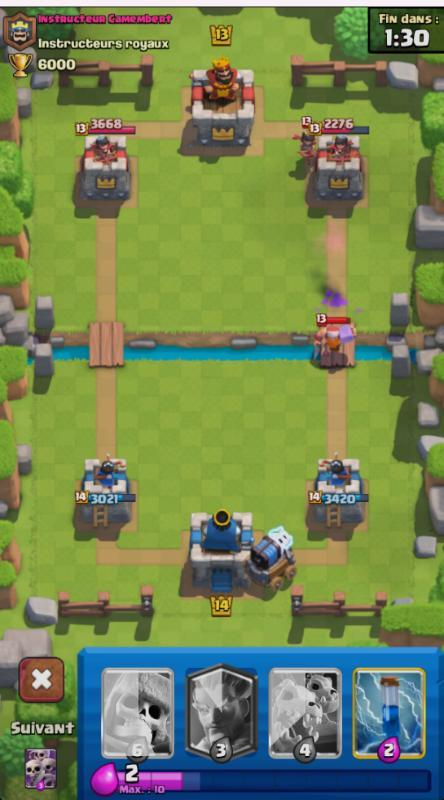enemy_lumberjack: (308, 308, 364, 362)
enemy_princess: (289, 113, 320, 165)
enemy_sparky: (240, 519, 302, 592)
